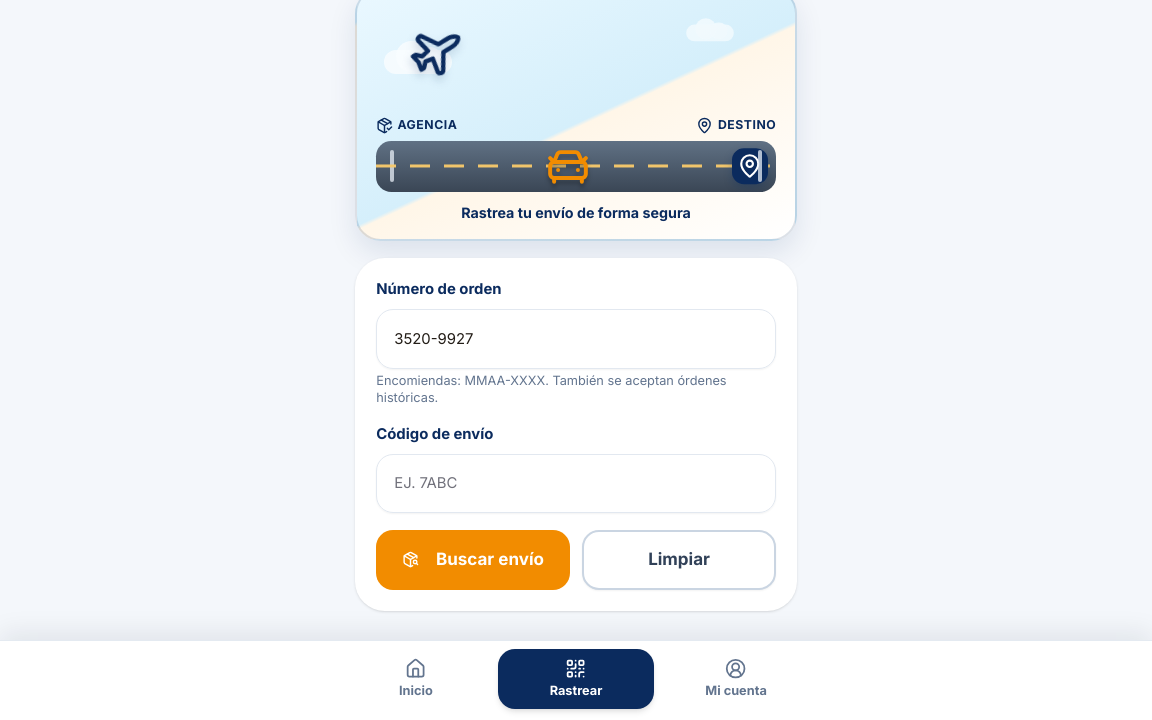
Test case: MobileAppPage › muestra la orden y el código claramente en el resultado móvil
Earlier steps of the test are not shown.
(page scrolled)
Type "7abc" into the field named "Código de envío móvil" at (576,483), box [376,454,776,513]
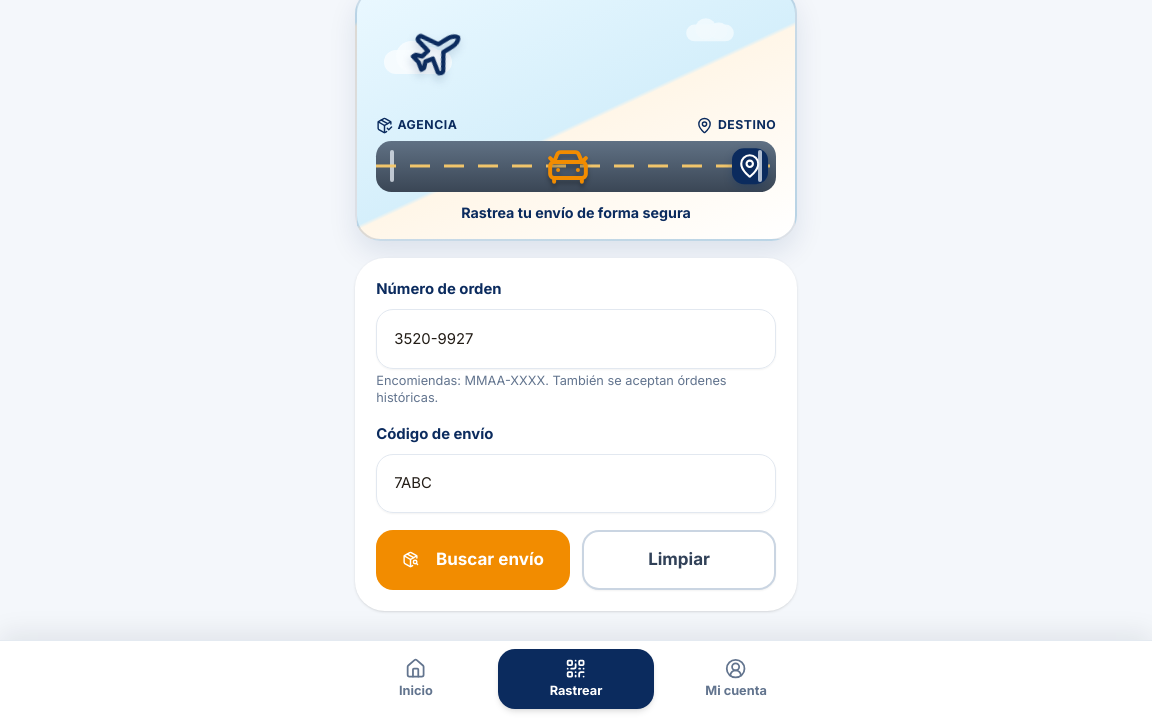
Click the button "Buscar envío" at (473,560), box [376,530,570,590]
(page scrolled)
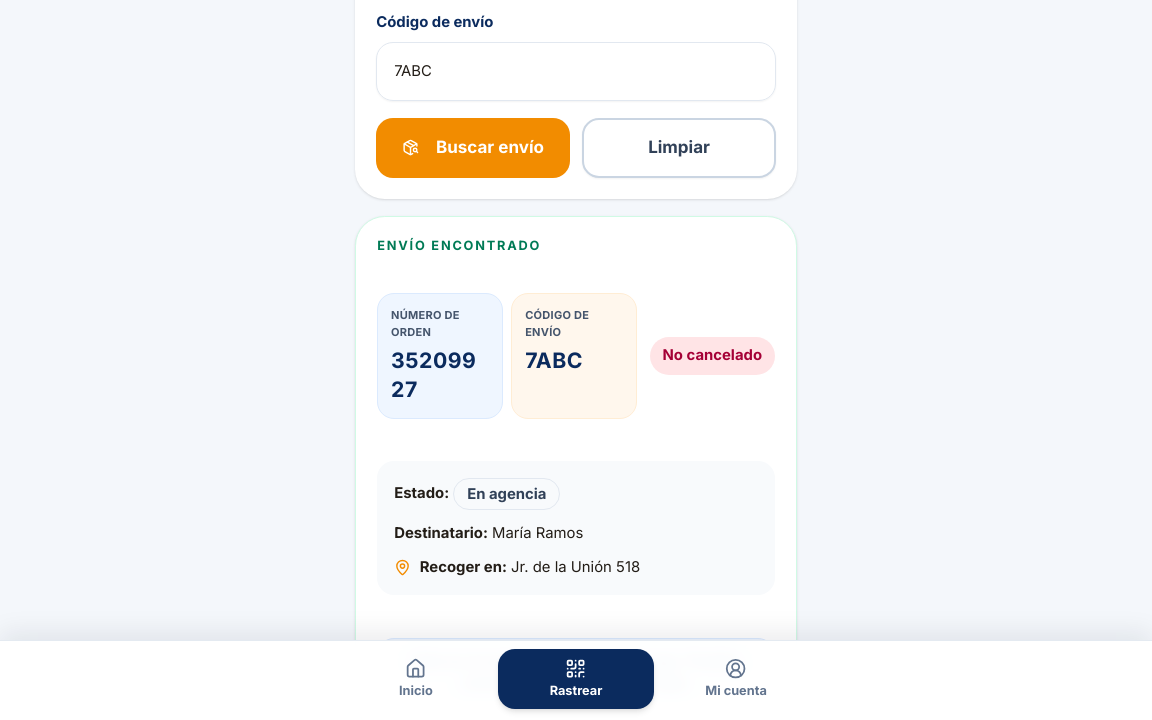
Expected: the text "Código de envío" is shown, [376,13,494,31]
Expected: the text "35209927" is shown, [391,346,489,405]
Expected: the text "7ABC" is shown, [525,346,583,372]
